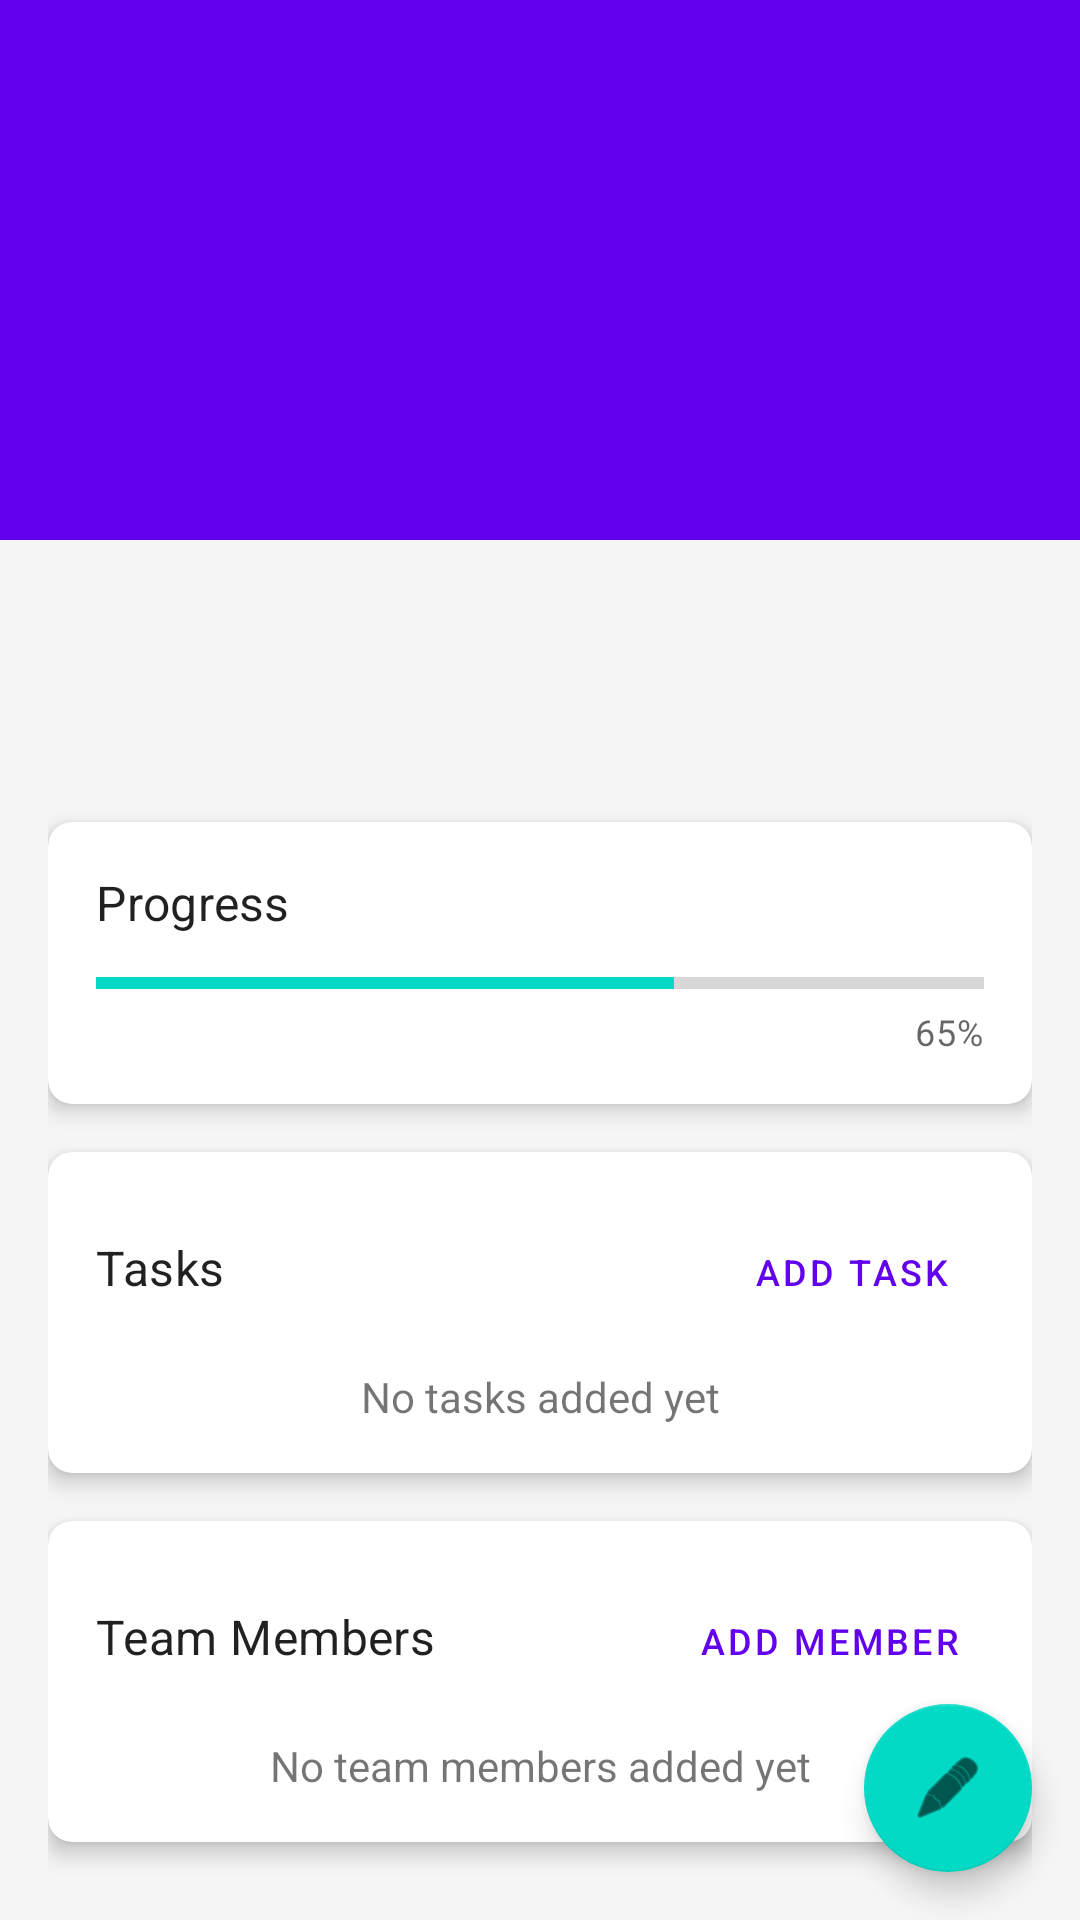

Named icons in this screenshot (1080px×1920px) and their centers, (x=x, y=y):
Edit project: (x=948, y=1788)
